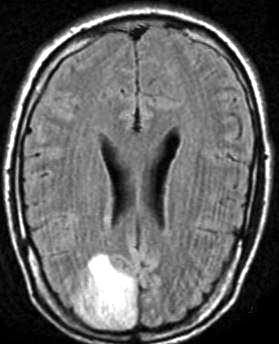Tumor: (75, 253, 144, 331)
